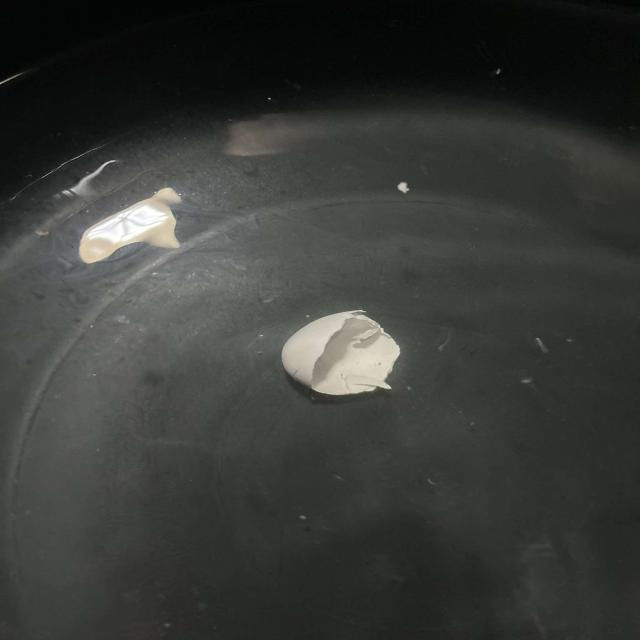Eggshell: (252, 293, 423, 423)
